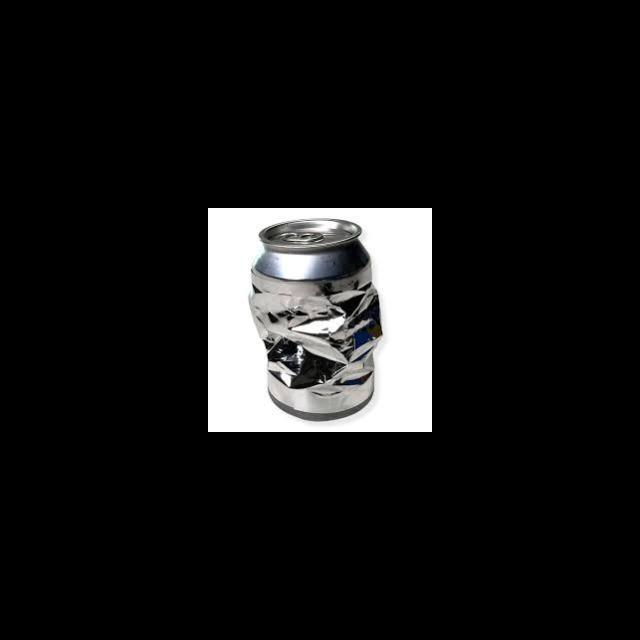metal: (243, 214, 391, 424)
